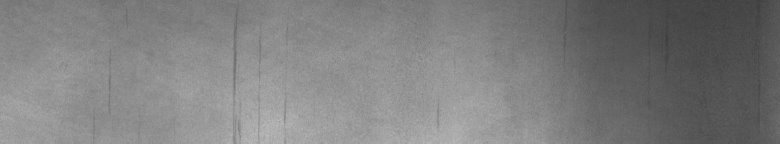ka: (229, 26, 286, 136)
